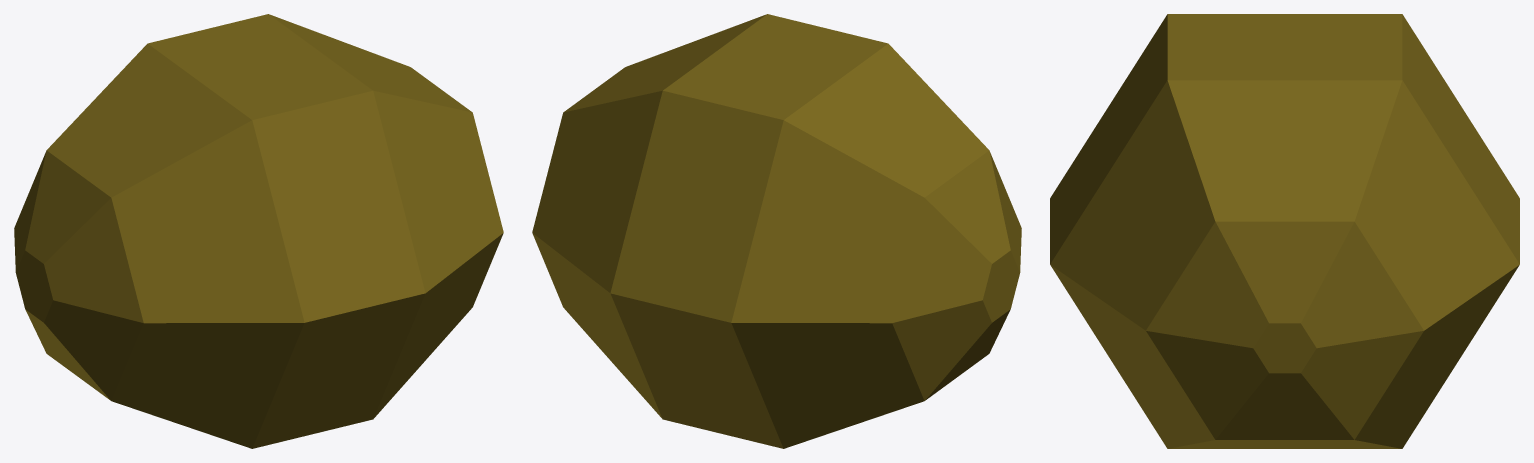
File: Papaya.fbx
The picture shows the model from 3 angles, left to right: view 1: azimuth 30°, elevation 25°; view 2: azimuth 150°, elevation 25°; view 3: azimuth 270°, elevation 25°; orthographic projection. The views are drawn at different scales.
Parts seen in each view (by area): view 1: Papaya, Papaya.001; view 2: Papaya, Papaya.001; view 3: Papaya.001, Papaya.
Part boxes in pixels (box(x1,y1,x2,y2)): Papaya: box(14, 29, 364, 448); Papaya.001: box(208, 14, 503, 433); Papaya: box(671, 29, 1021, 448); Papaya.001: box(532, 14, 827, 433); Papaya.001: box(1050, 47, 1519, 448); Papaya: box(1050, 14, 1519, 230).
Bounding box in the file's own units: 242 × 173 × 200.
